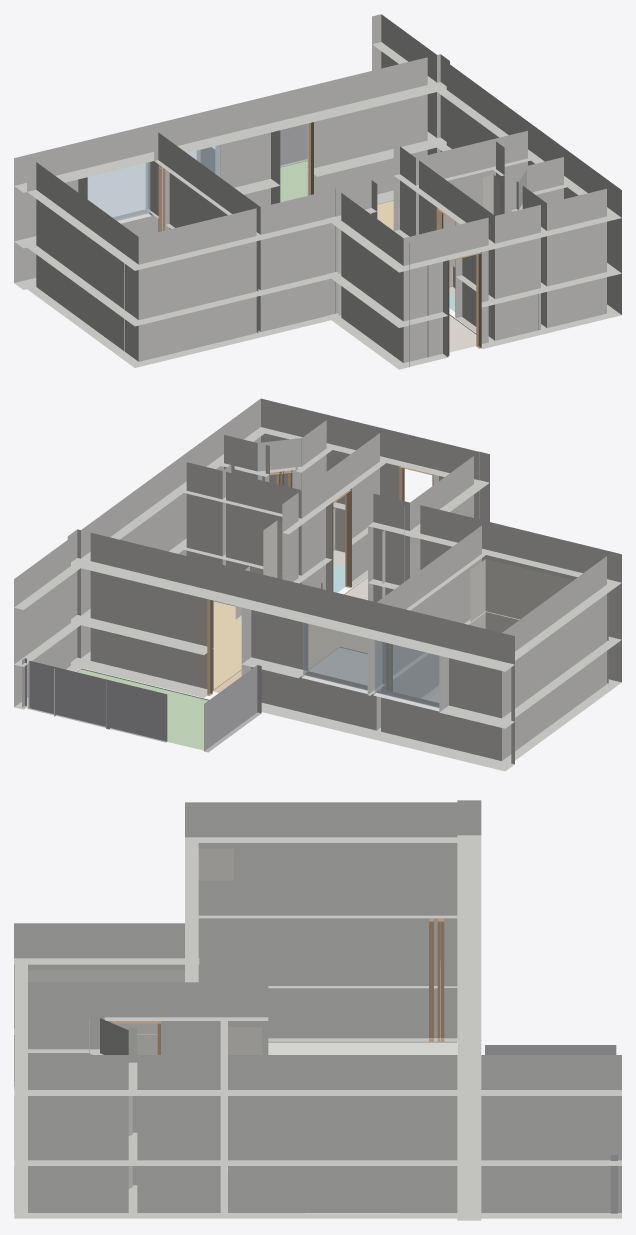
3 views of the same model, one above another, from view 1: azimuth 30°, elevation 25°; view 2: azimuth 150°, elevation 25°; view 3: azimuth 270°, elevation 25° (orthographic). The views are drawn at different scales.
Visible parts, largest first — view 1: walls, window_3, railings, floor_7_Outdoor, door_0, floor_4_Entry, furniture_2_closet, window_2, furniture_3_closet; view 2: walls, railings, furniture_1_closet, window_3, window_2, floor_7_Outdoor, floor_3_Kitchen, floor_2_Living_Room, floor_1_Undefined, furniture_0_closet, door_4, furniture_7_appliance (+1 smaller); view 3: walls, furniture_3_closet, floor_1_Undefined, railings, furniture_1_closet, door_8, furniture_0_closet, door_7.
Boxes of the visible parts, box(x1,y1,x2,y2) form: walls: box(14, 14, 621, 369); window_3: box(87, 162, 150, 220); railings: box(197, 123, 307, 172); floor_7_Outdoor: box(280, 160, 307, 202); door_0: box(448, 252, 481, 356); floor_4_Entry: box(449, 314, 476, 352); furniture_2_closet: box(483, 174, 499, 215); window_2: box(187, 145, 220, 177); furniture_3_closet: box(338, 228, 428, 363); walls: box(14, 398, 621, 771); railings: box(22, 658, 261, 752); furniture_1_closet: box(470, 559, 608, 683); window_3: box(374, 640, 444, 708); window_2: box(303, 618, 367, 690); floor_7_Outdoor: box(27, 668, 208, 750); floor_3_Kitchen: box(213, 600, 241, 689); floor_2_Living_Room: box(213, 624, 367, 692); floor_1_Undefined: box(308, 647, 367, 685); furniture_0_closet: box(263, 520, 282, 579); door_4: box(332, 488, 351, 591); furniture_7_appliance: box(333, 507, 345, 566); walls: box(14, 800, 621, 1220); furniture_3_closet: box(28, 970, 184, 1054); floor_1_Undefined: box(268, 1041, 456, 1054); railings: box(485, 1045, 617, 1213); furniture_1_closet: box(198, 848, 234, 880); door_8: box(437, 918, 444, 1041); furniture_0_closet: box(228, 1027, 261, 1054); door_7: box(429, 918, 433, 1041).
Size of the model in its own units: 9.65 by 2.72 by 9.43.
